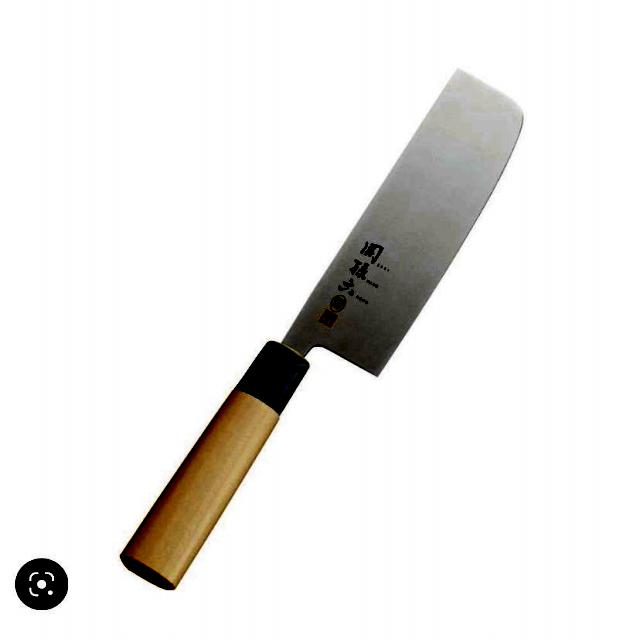knife: (94, 58, 529, 596)
